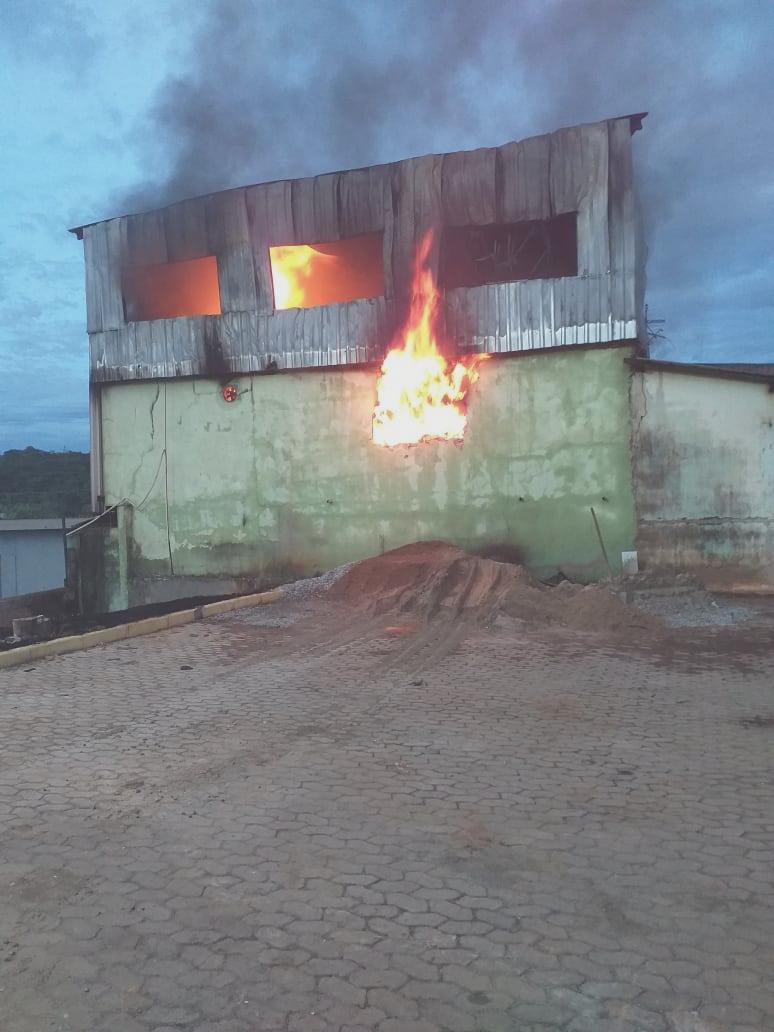Fire: (366, 228, 494, 448), (268, 246, 346, 309)
